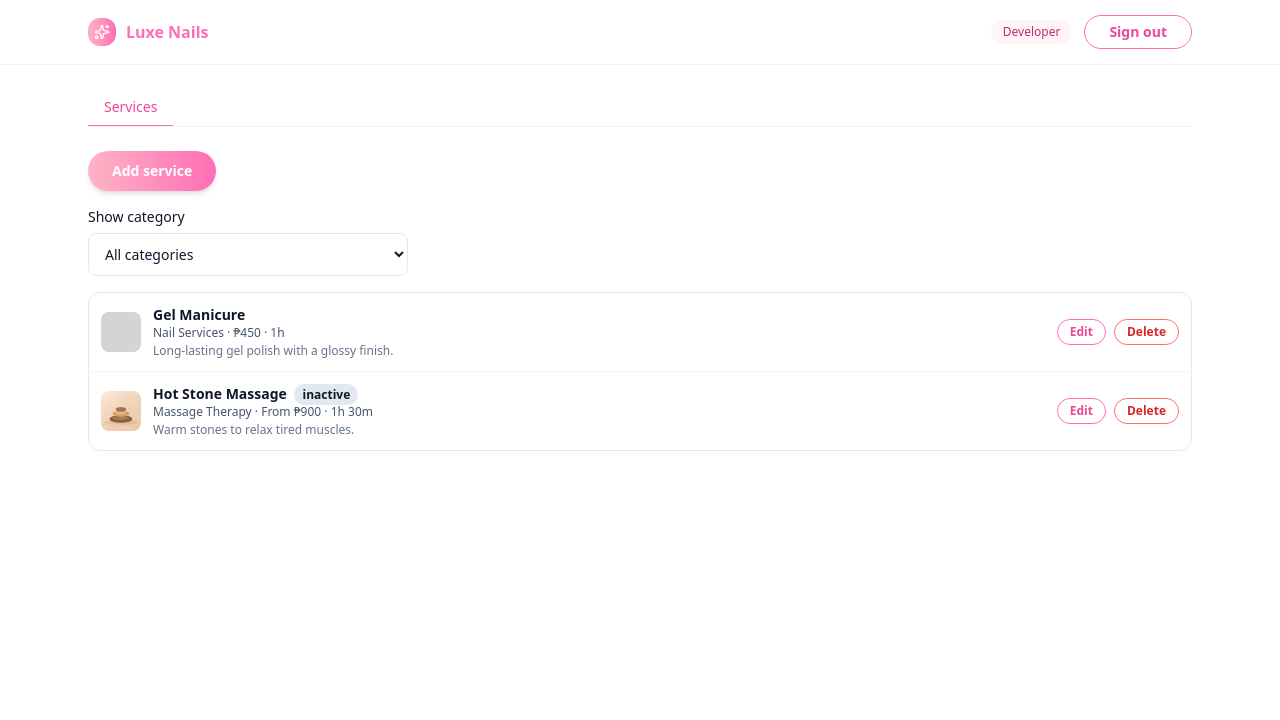
Test: what happens when the server refuses › a permission refusal (403 FORBIDDEN) keeps the person signed in and shows the reason
Check: the text "Gel Manicure" is shown, box x1=153 y1=305 x2=245 y2=324
Click the button "Delete" in the row of "Gel Manicure" at (1146, 332), box x1=1114 y1=319 x2=1179 y2=345
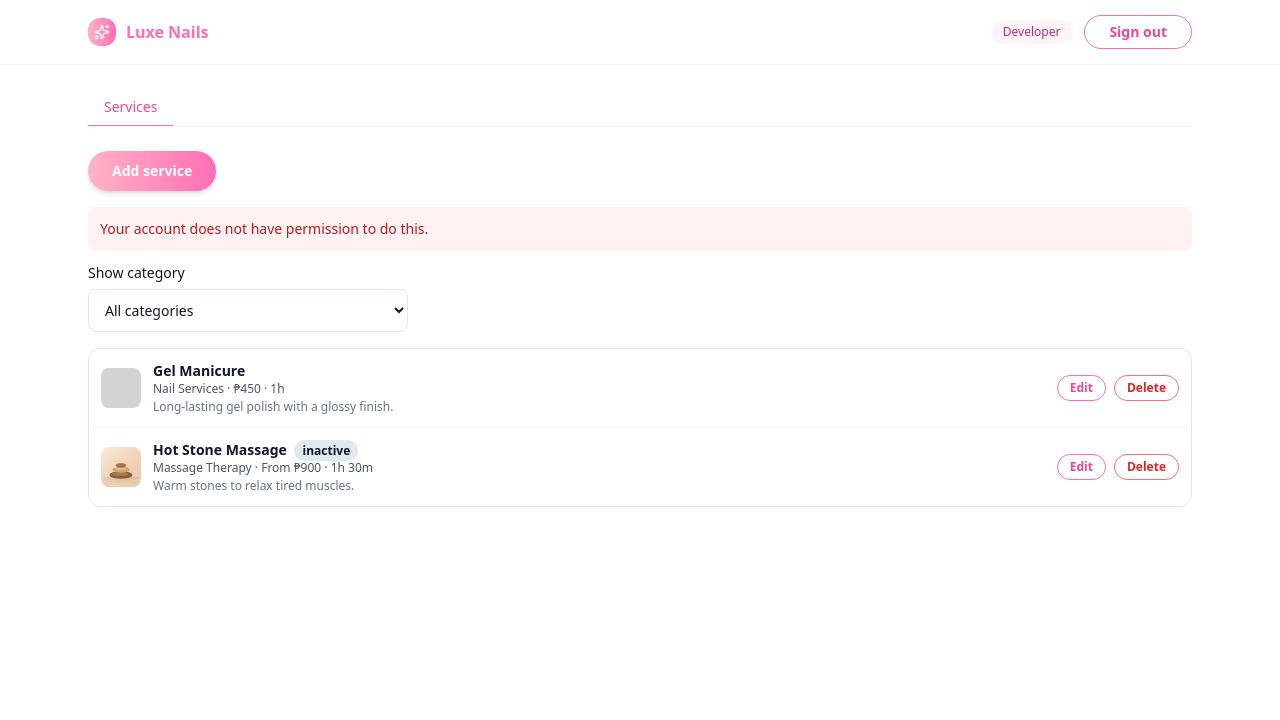
Check: the element showing "Services" is shown, box x1=88 y1=89 x2=1192 y2=127
Check: the text "Your account does not have permission to do this." is shown, box x1=88 y1=207 x2=1192 y2=251
